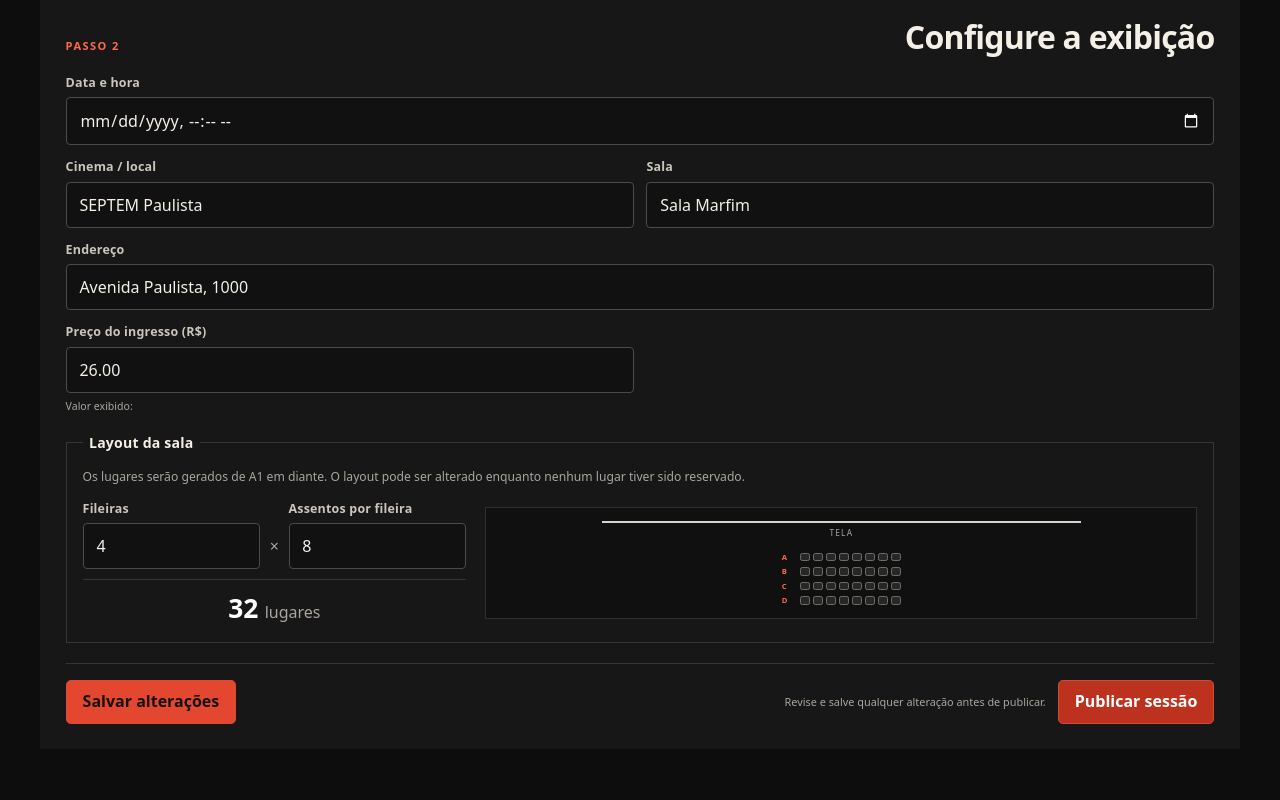
editor de sessão do organizador › publica somente depois da confirmação explícita
(page scrolled)
What coordinates should you click on to do the following:
click the button "Publicar sessão"
I would click on:
 (1136, 702)
Its box is [1058,680,1214,724].
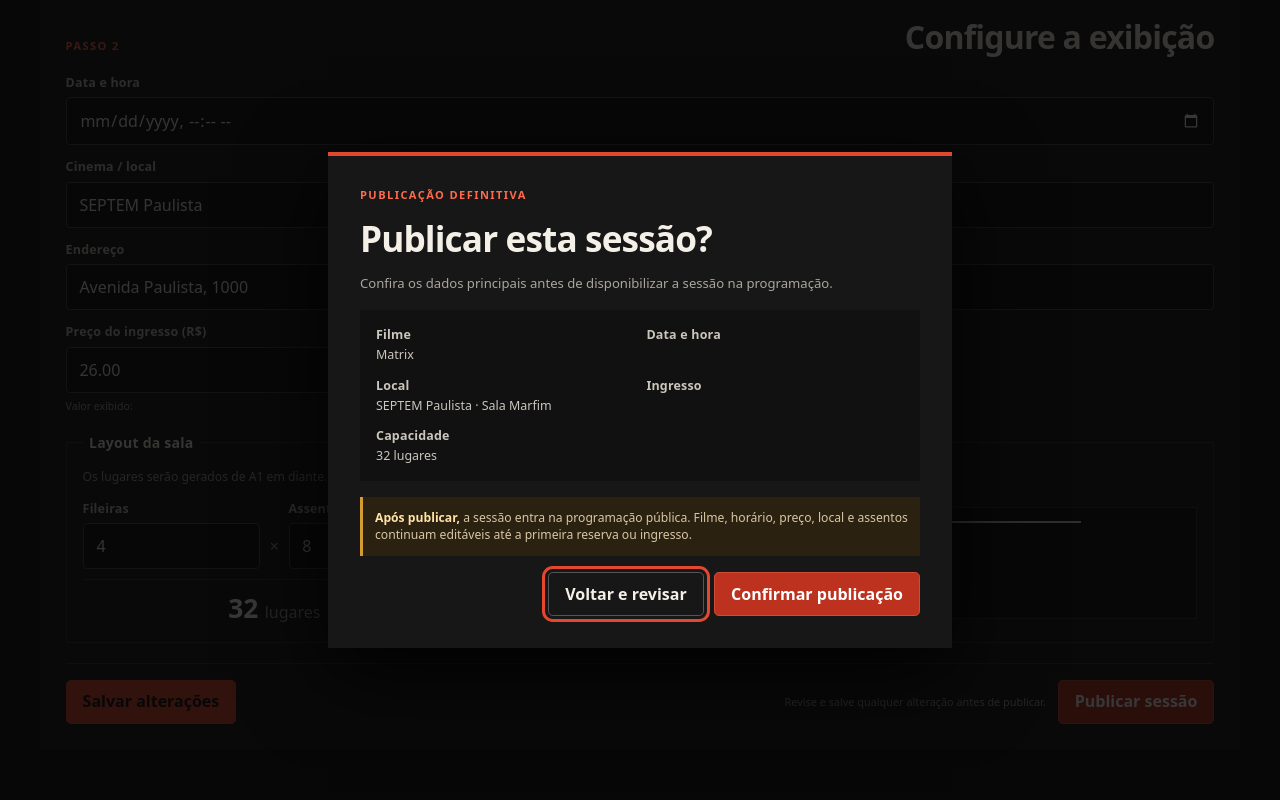
Expected: the dialog "Publicar esta sessão?" is shown, [328,152,952,648]
What coordinates should you click on to do the following:
click the button "Confirmar publicação"
I would click on:
 (817, 594)
Its box is [714,572,920,616].
(page scrolled)
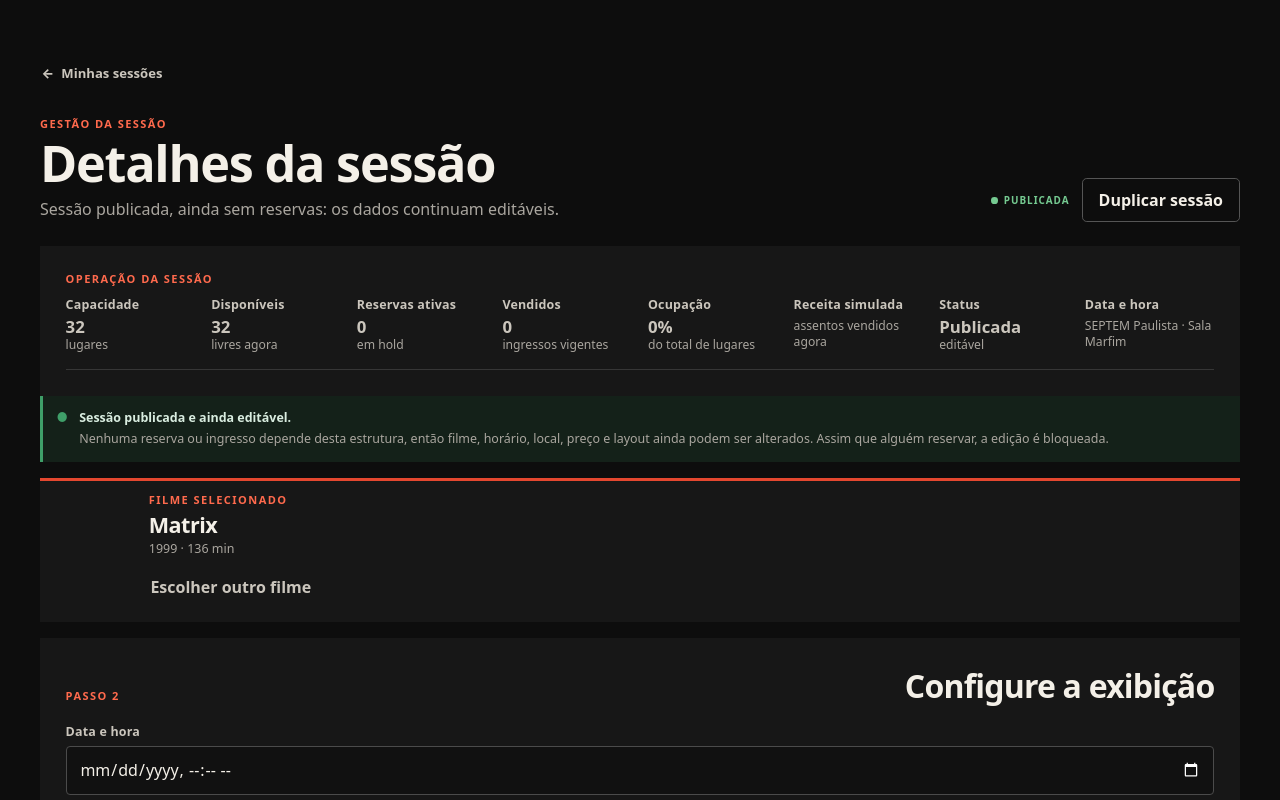
Expected: the heading "Detalhes da sessão" is shown, [40,137,559,189]
